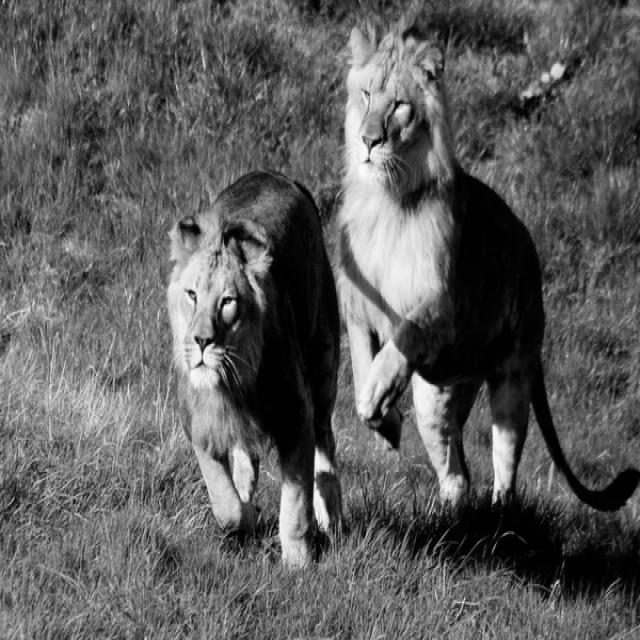Animal: (337, 16, 640, 512), (168, 170, 342, 568)
